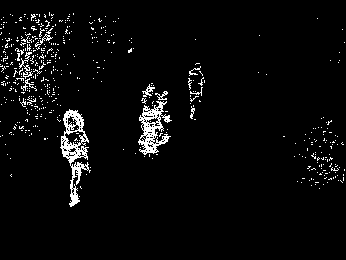person: (58, 107, 94, 209), (185, 61, 209, 122)
